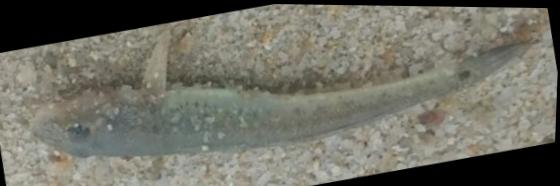fish: (33, 21, 529, 157)
